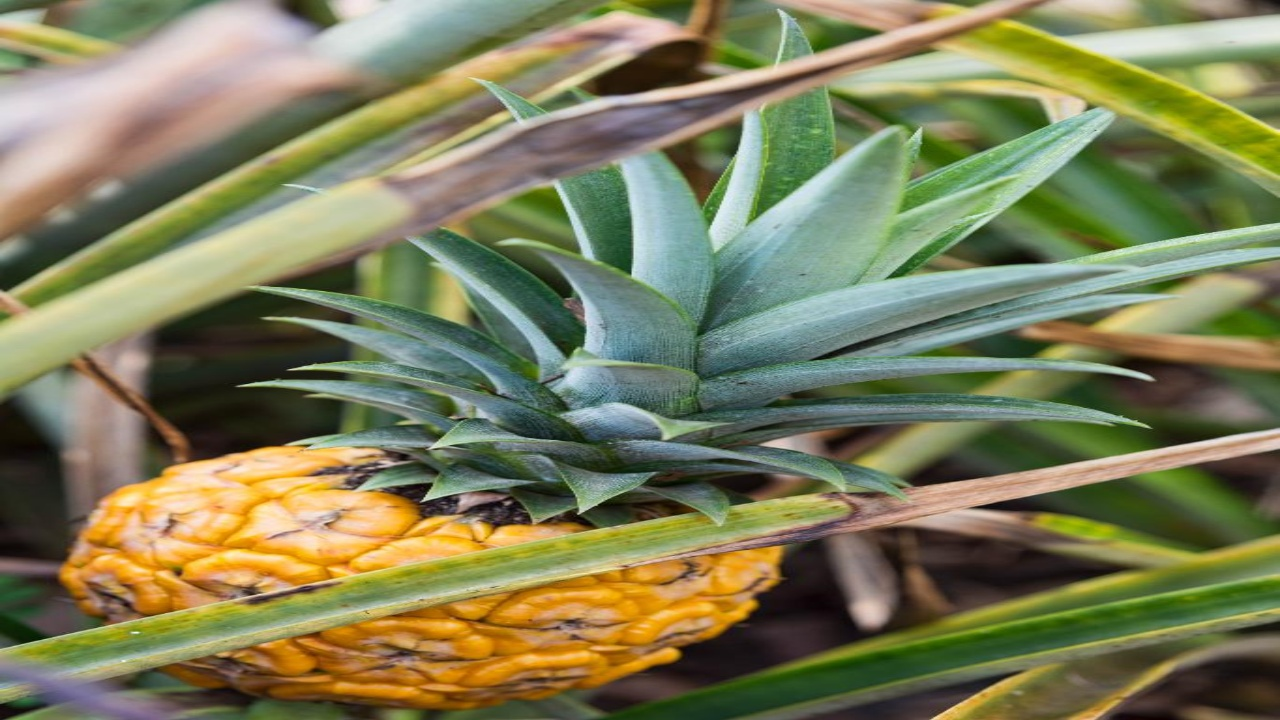pineapple: (43, 430, 778, 682)
